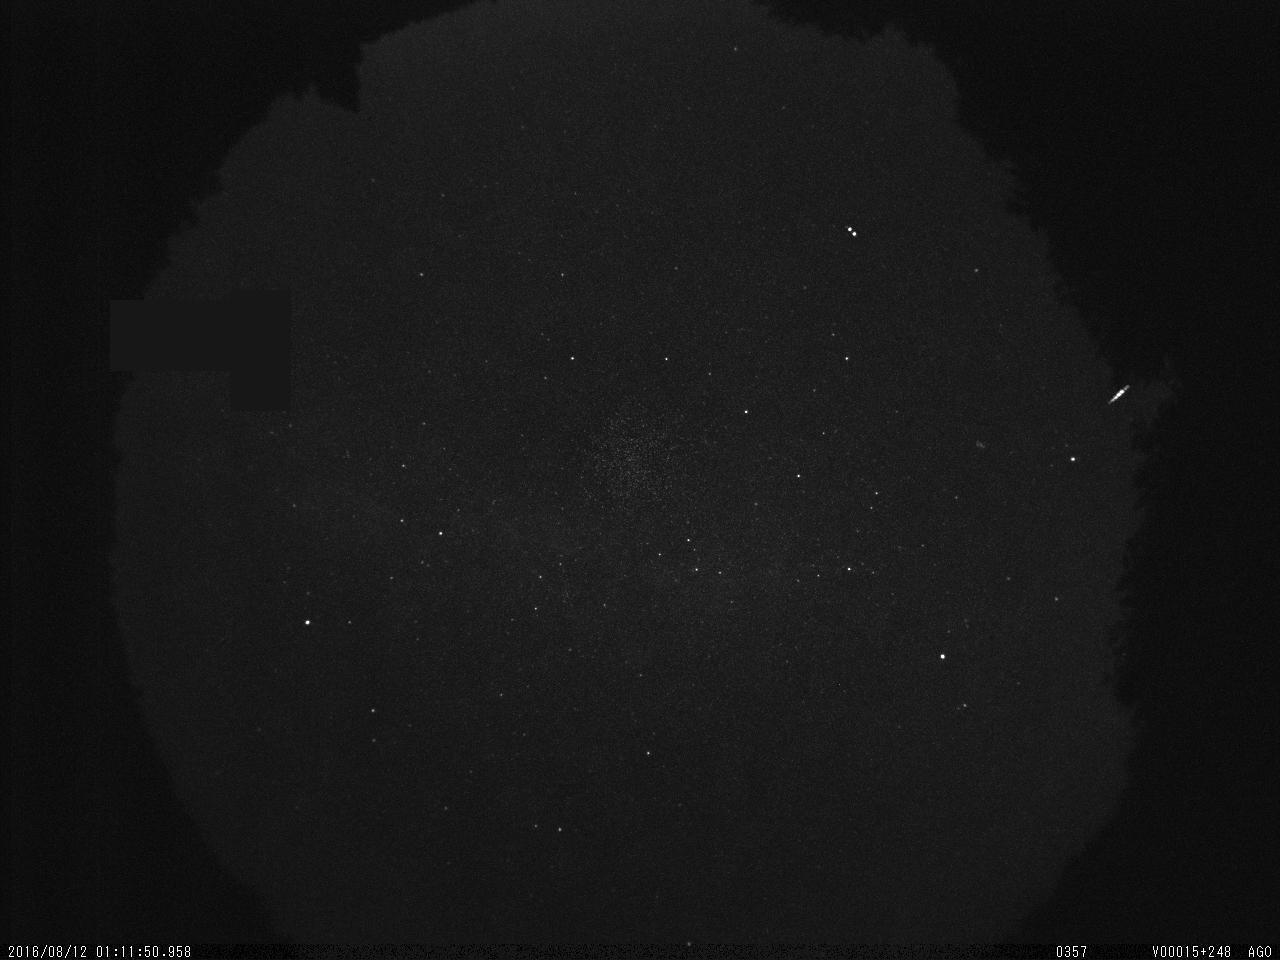meteor: (1104, 374, 1144, 408)
satelite: (842, 218, 864, 243)
